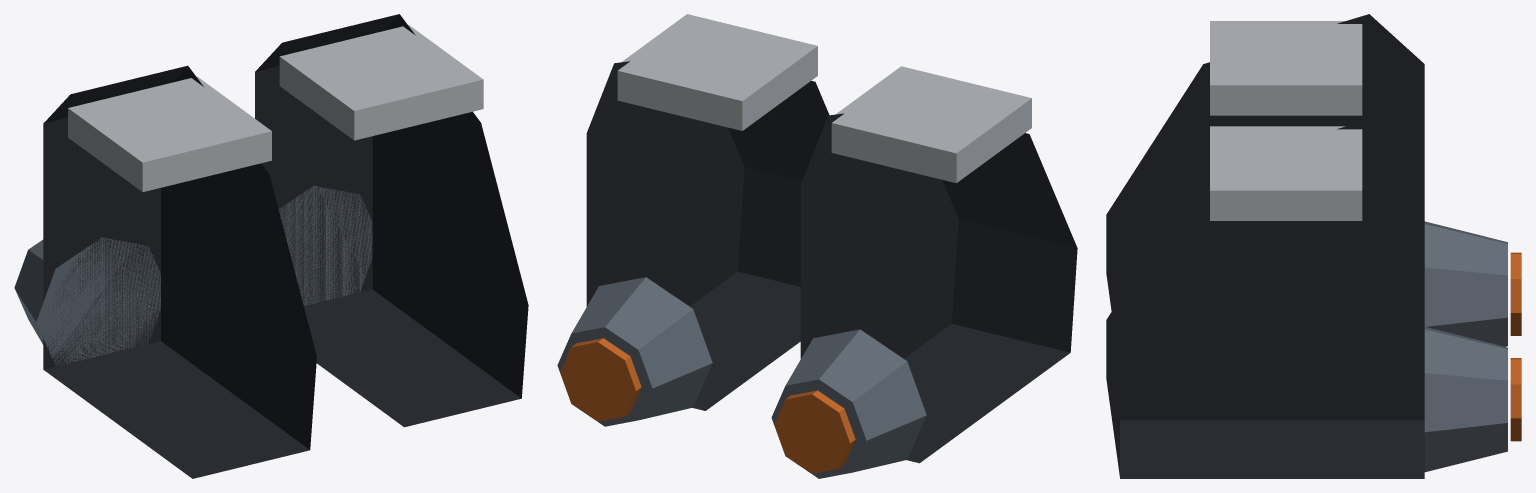
File: rocket-boots.glb
3 renders of one model, left to right at view 1: azimuth 30°, elevation 25°; view 2: azimuth 150°, elevation 25°; view 3: azimuth 270°, elevation 25°, orthographic.
Parts seen in each view (by area): view 1: m; view 2: m; view 3: m.
Part boxes in pixels (x1=…): m: x1=14, y1=14, x2=528, y2=478; m: x1=557, y1=14, x2=1077, y2=478; m: x1=1106, y1=14, x2=1521, y2=478.
Bounding box in the file's own units: 0.22 × 0.1929 × 0.226.
